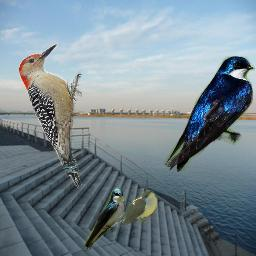Cuckoo: (100, 190, 157, 231)
Swallow: (164, 56, 255, 172), (83, 187, 125, 251)
Woodpecker: (19, 42, 82, 189)
